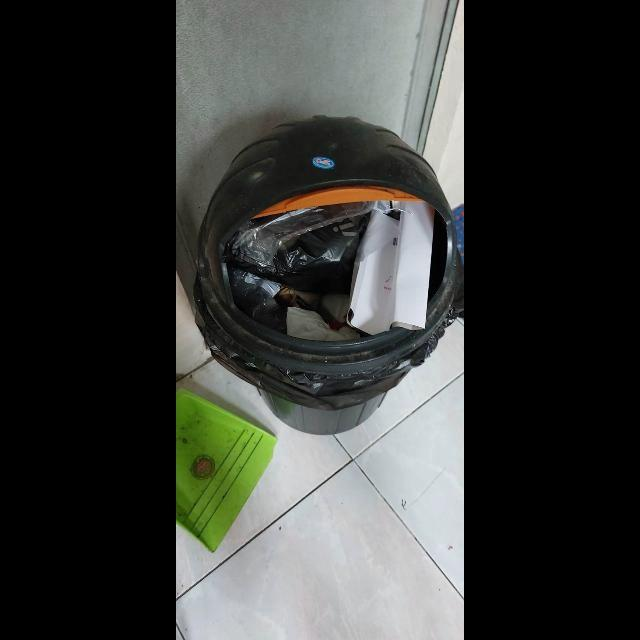paper: (347, 201, 436, 336), (287, 307, 361, 341)
plastic_bag: (224, 200, 392, 286)
